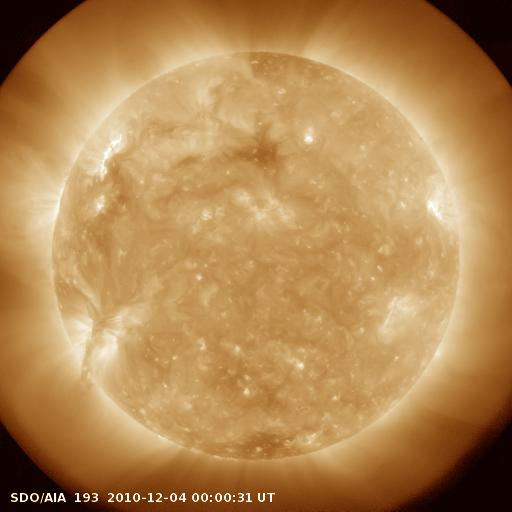coronal_hole: (220, 428, 311, 461), (234, 124, 285, 169)
